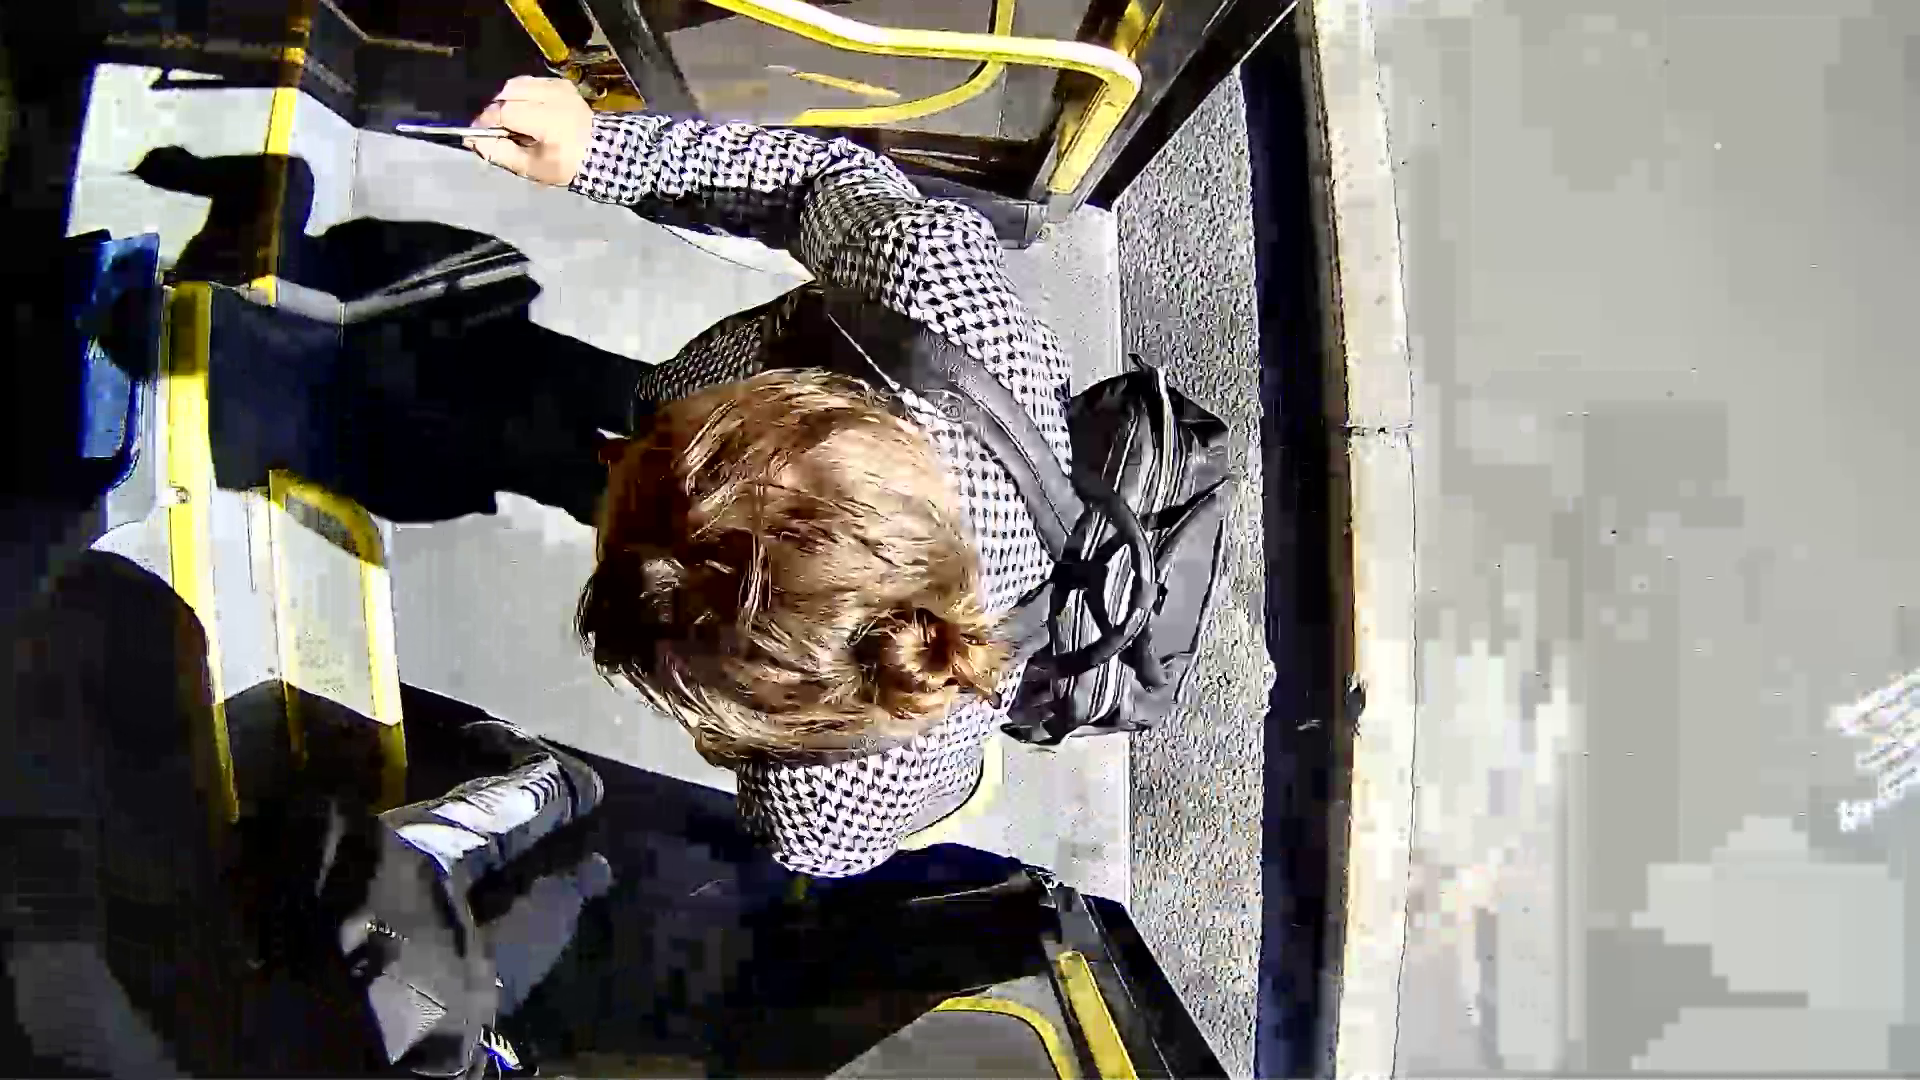person: (416, 73, 1292, 833)
